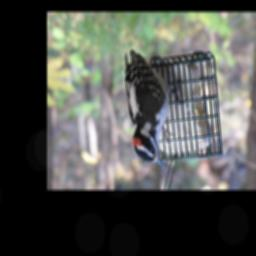Woodpecker: (125, 49, 183, 170)
